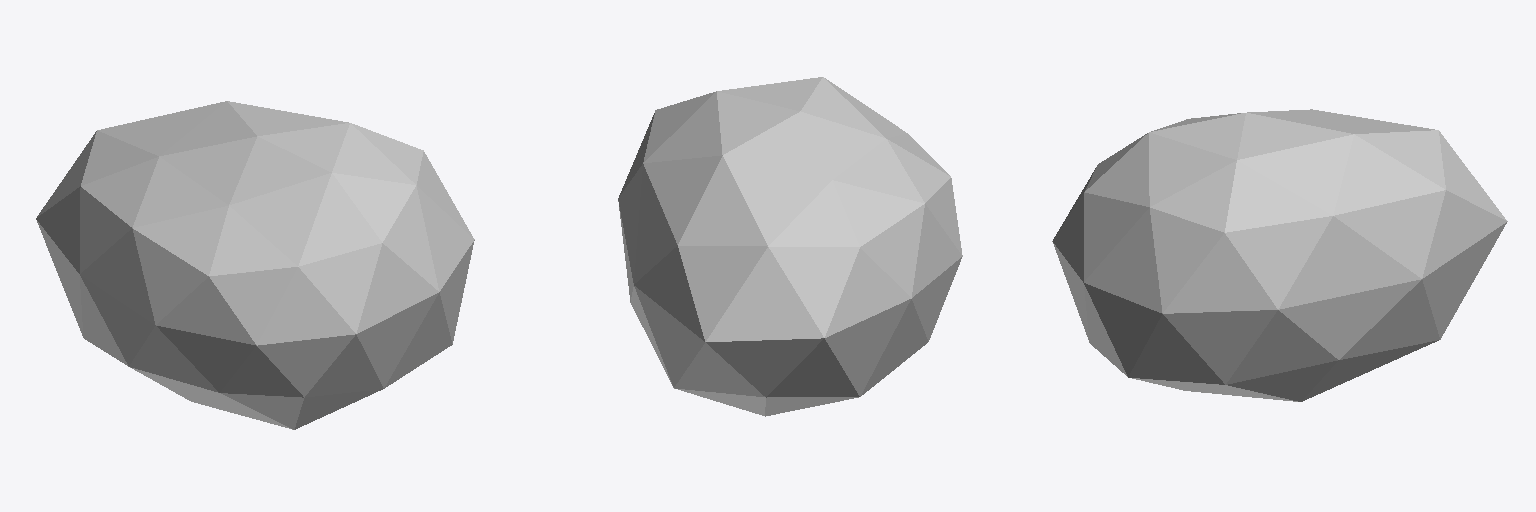
File: RockC.obj
The picture shows the model from 3 angles: view 1: azimuth 30°, elevation 25°; view 2: azimuth 150°, elevation 25°; view 3: azimuth 270°, elevation 25°; orthographic projection.
Parts seen in each view (by area): view 1: Rock3_Icosphere.003; view 2: Rock3_Icosphere.003; view 3: Rock3_Icosphere.003.
Boxes of the visible parts, box(x1,y1,x2,y2) form: Rock3_Icosphere.003: box(36, 101, 474, 429); Rock3_Icosphere.003: box(618, 77, 962, 416); Rock3_Icosphere.003: box(1052, 109, 1507, 401).
Bounding box in the file's own units: 1.2 × 0.9769 × 1.48.